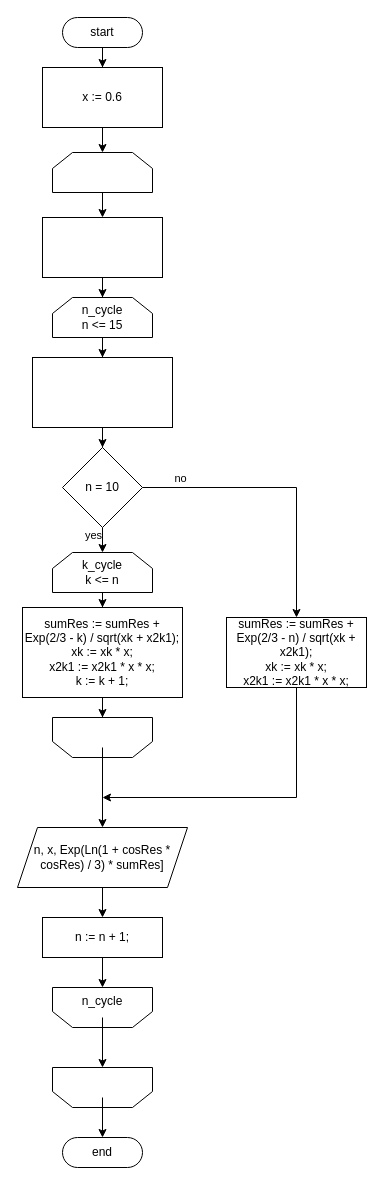
Image size: 384x1185. Some labels were removed from this diagram. The shapes that lost their labels are listed below. From the top down, each one's centre as x and y in pixels, then its label:
At (x=102, y=172): "x_cycle x <= 1.1 + 1/1e6".
At (x=102, y=247): "sumRes := 0; n := 10;".
At (x=102, y=392): "k := 1; xk := x; x2k1 := x; cosRes := Cos(x / n * PI);".
At (x=102, y=737): "k_cycle".
At (x=102, y=1087): "x_cycle".
